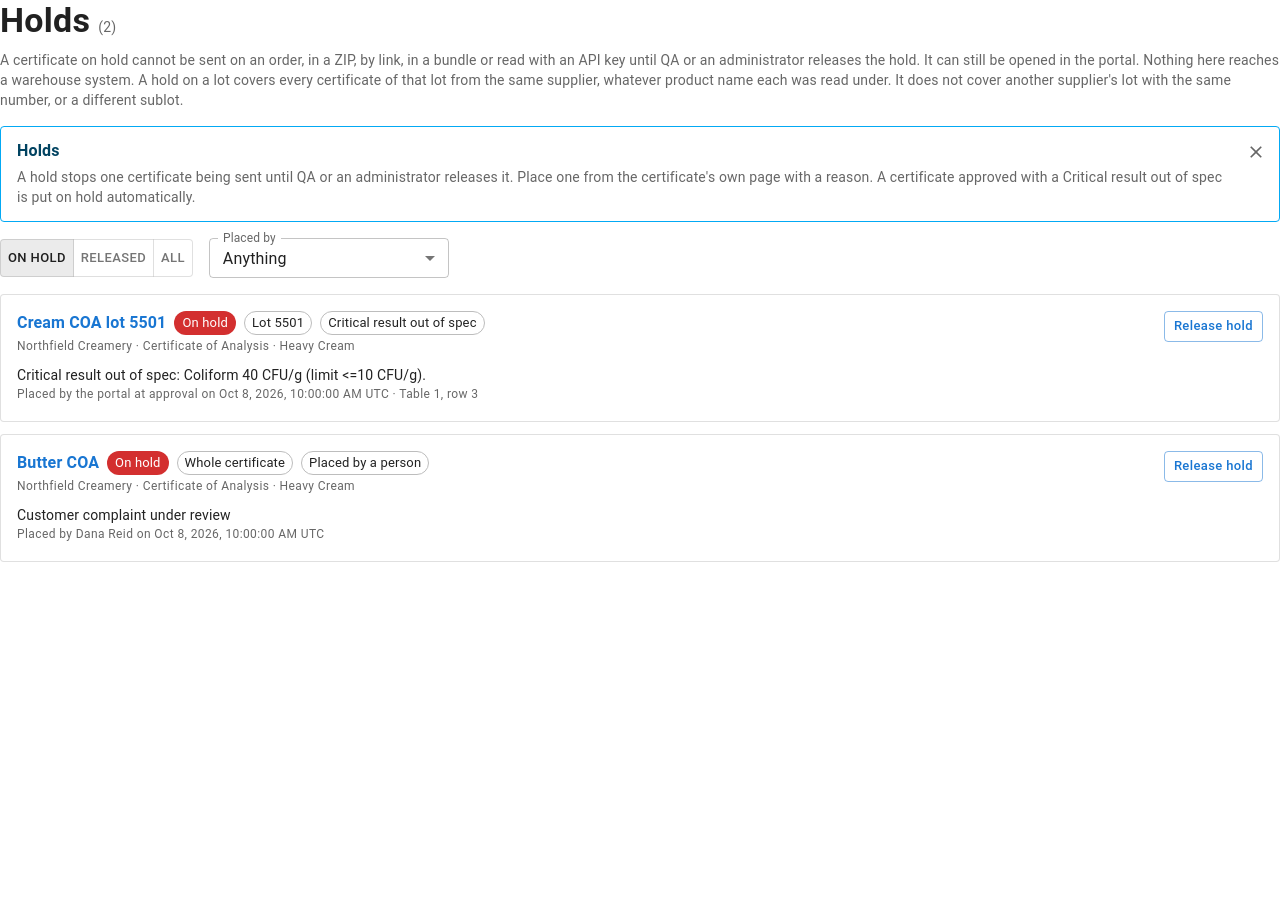
Scenario: Holds page › releasing needs a reason, reloads the list and tells the rail
Click the button with test id "hold-row-release-button".
click(1213, 326)  # box x1=1164 y1=311 x2=1263 y2=342
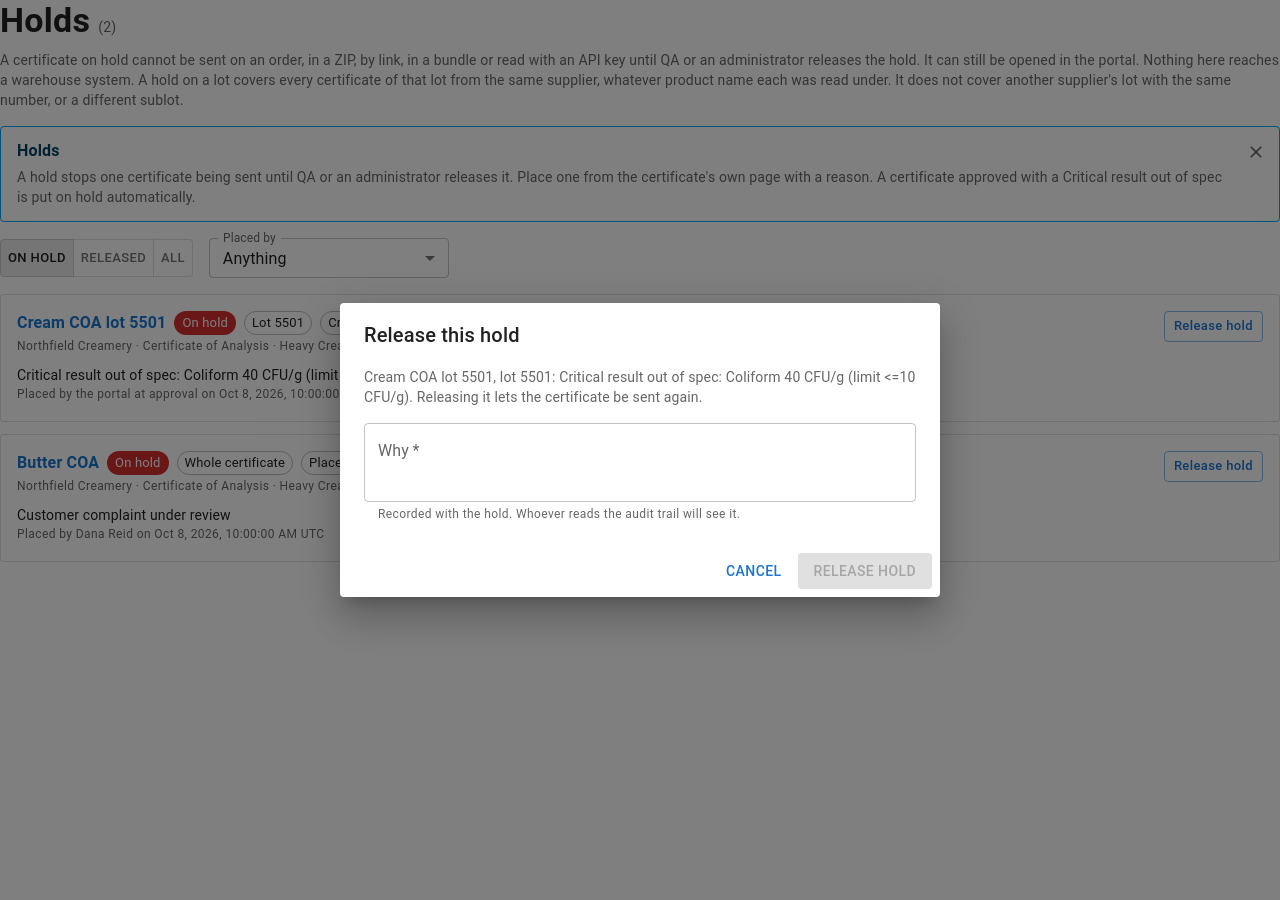
expect the element with test id "hold-reason-dialog" shows "Cream COA lot 5501, lot 5501": met, box x1=364 y1=369 x2=916 y2=405
expect the button with test id "hold-confirm" is disabled: met, box x1=798 y1=553 x2=932 y2=589
Type "Retest came back at 4 CFU/g" into the text box with test id "hold-reason".
click(640, 462); type("Retest came back at 4 CFU/g")  # box x1=378 y1=439 x2=902 y2=485
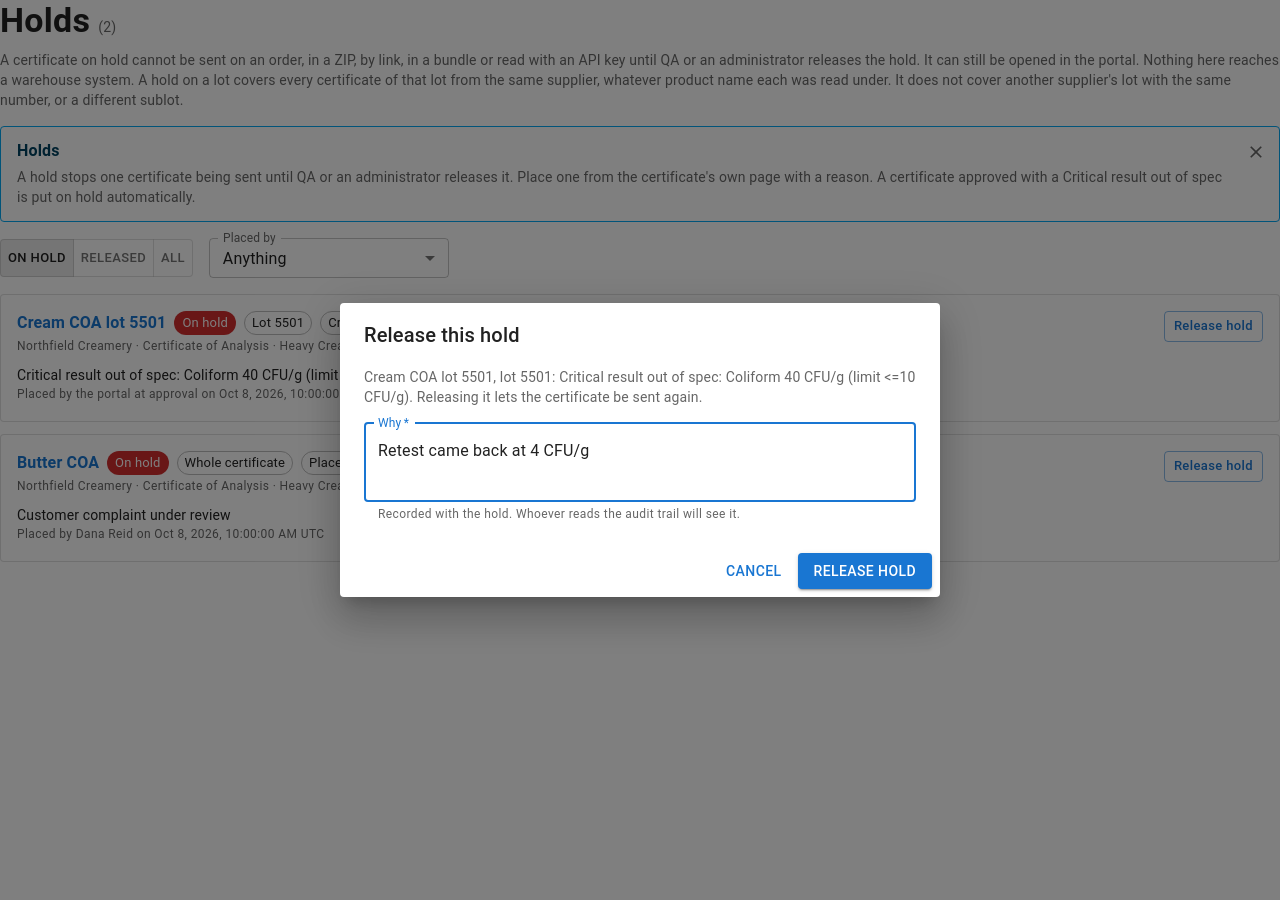
Click the button with test id "hold-confirm".
click(865, 571)  # box x1=798 y1=553 x2=932 y2=589
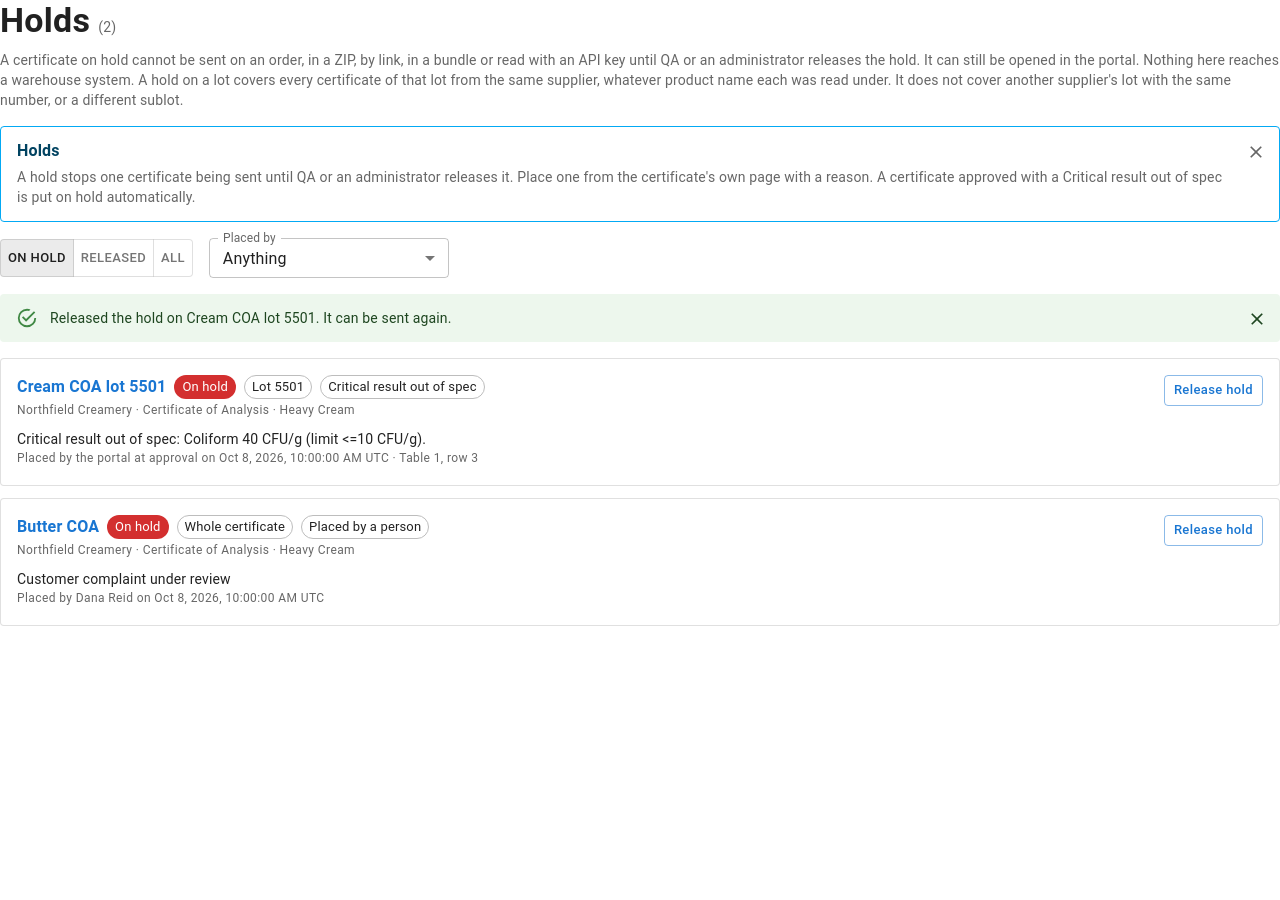
expect the message with test id "holds-notice" reads "Released the hold on Cream COA lot 5501. It can be sent again.": met, box x1=50 y1=310 x2=452 y2=326
